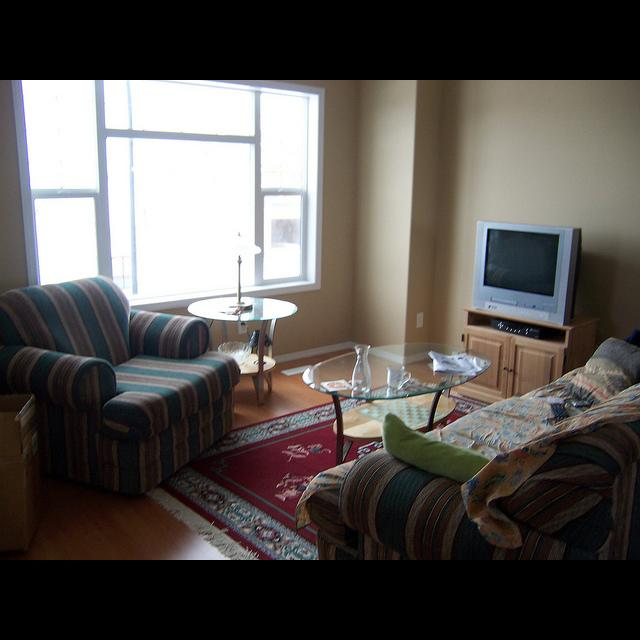TV-Remote-Control: (551, 403, 567, 423), (570, 400, 592, 408)
